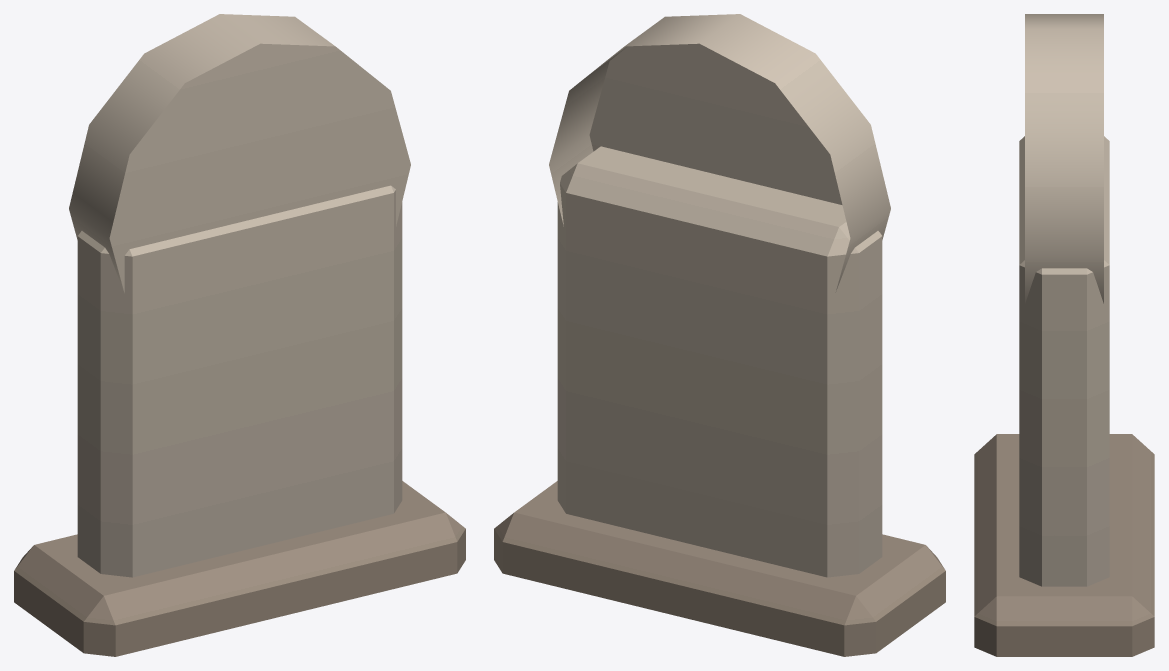
Rendered from headstone_1.glb.
The picture shows the model from 3 angles, left to right: view 1: azimuth 30°, elevation 25°; view 2: azimuth 150°, elevation 25°; view 3: azimuth 270°, elevation 25°; orthographic projection. The views are drawn at different scales.
Visible parts, largest first — view 1: headstone_1; view 2: headstone_1; view 3: headstone_1.
Part boxes in pixels (box(x1,y1,x2,y2)): headstone_1: box(14, 14, 465, 656); headstone_1: box(494, 14, 945, 656); headstone_1: box(974, 14, 1154, 656).
Size of the model in its own units: 0.76 by 1.05 by 0.32.
Materials: 1 (1 with a texture image).
